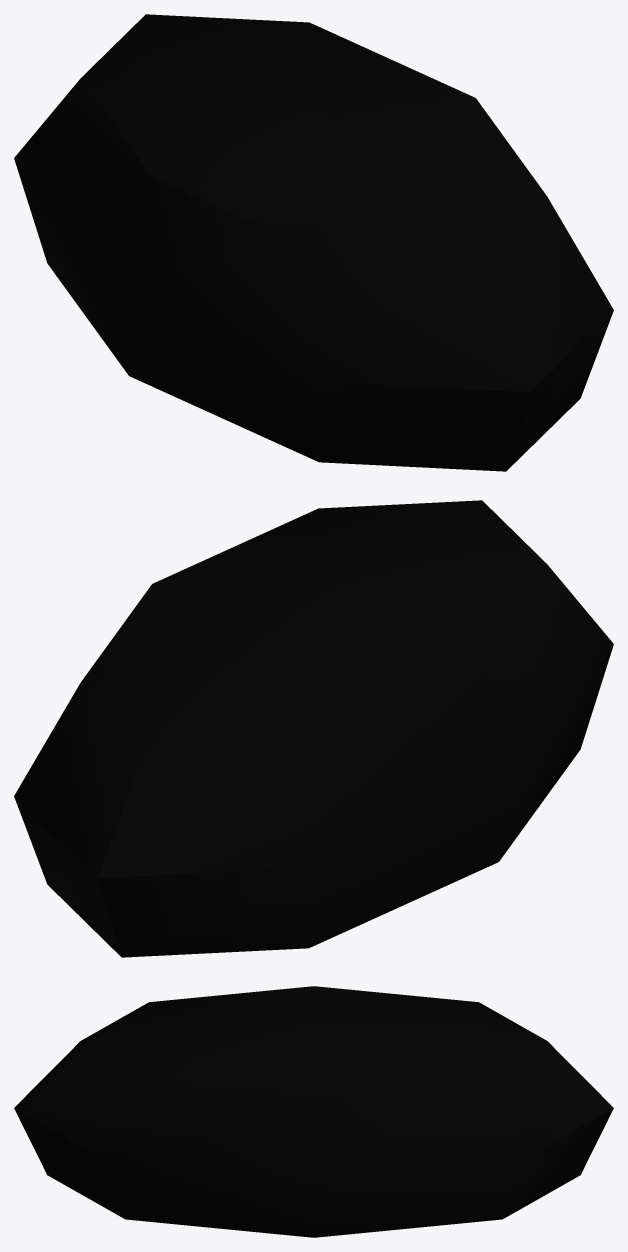
The model's file is SM_bread.fbx.
3 renders of one model, top to bottom at view 1: azimuth 30°, elevation 25°; view 2: azimuth 150°, elevation 25°; view 3: azimuth 270°, elevation 25°, orthographic. The views are drawn at different scales.
Parts seen in each view (by area): view 1: bread; view 2: bread; view 3: bread.
Boxes of the visible parts, left/top/right/bottom form: bread: left=14, top=14, right=613, bottom=471; bread: left=14, top=500, right=613, bottom=957; bread: left=14, top=986, right=613, bottom=1237.
Bounding box in the file's own units: 0.18 × 0.09 × 0.324.
